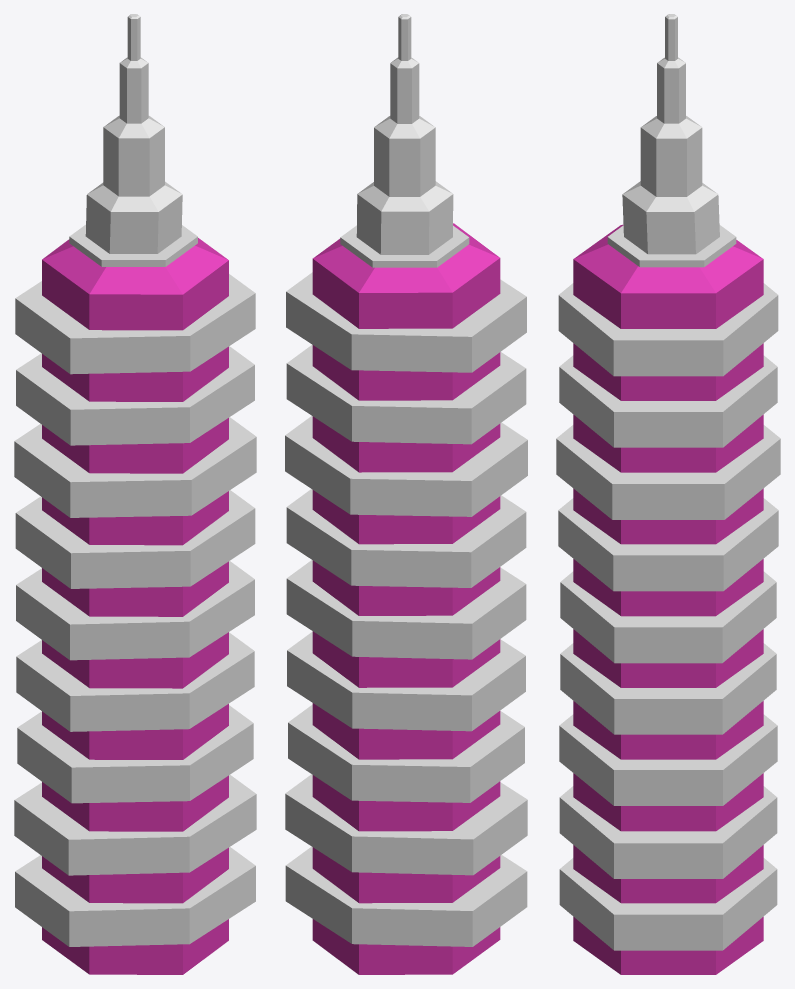
Rendered from Building__Antenna.fbx.
3 renders of one model, left to right at view 1: azimuth 30°, elevation 25°; view 2: azimuth 150°, elevation 25°; view 3: azimuth 270°, elevation 25°, orthographic.
Parts seen in each view (by area): view 1: Cylinder, Cylinder.001; view 2: Cylinder, Cylinder.001; view 3: Cylinder, Cylinder.001.
Part boxes in pixels (<box>): Cylinder: <box>14,238,256,974</box>; Cylinder.001: <box>69,14,197,266</box>; Cylinder: <box>285,223,527,974</box>; Cylinder.001: <box>340,14,469,267</box>; Cylinder: <box>556,224,780,974</box>; Cylinder.001: <box>607,14,736,267</box>.
Size of the model in its own units: 6947 by 32646 by 7181.
